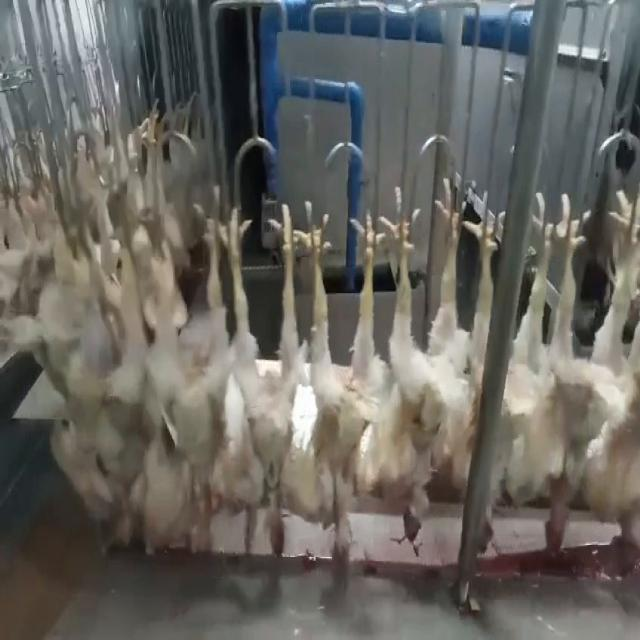chicken: (373, 176, 473, 544), (294, 192, 386, 568), (211, 195, 298, 570), (118, 210, 210, 559), (513, 195, 584, 565), (589, 187, 639, 568), (458, 176, 509, 494)
